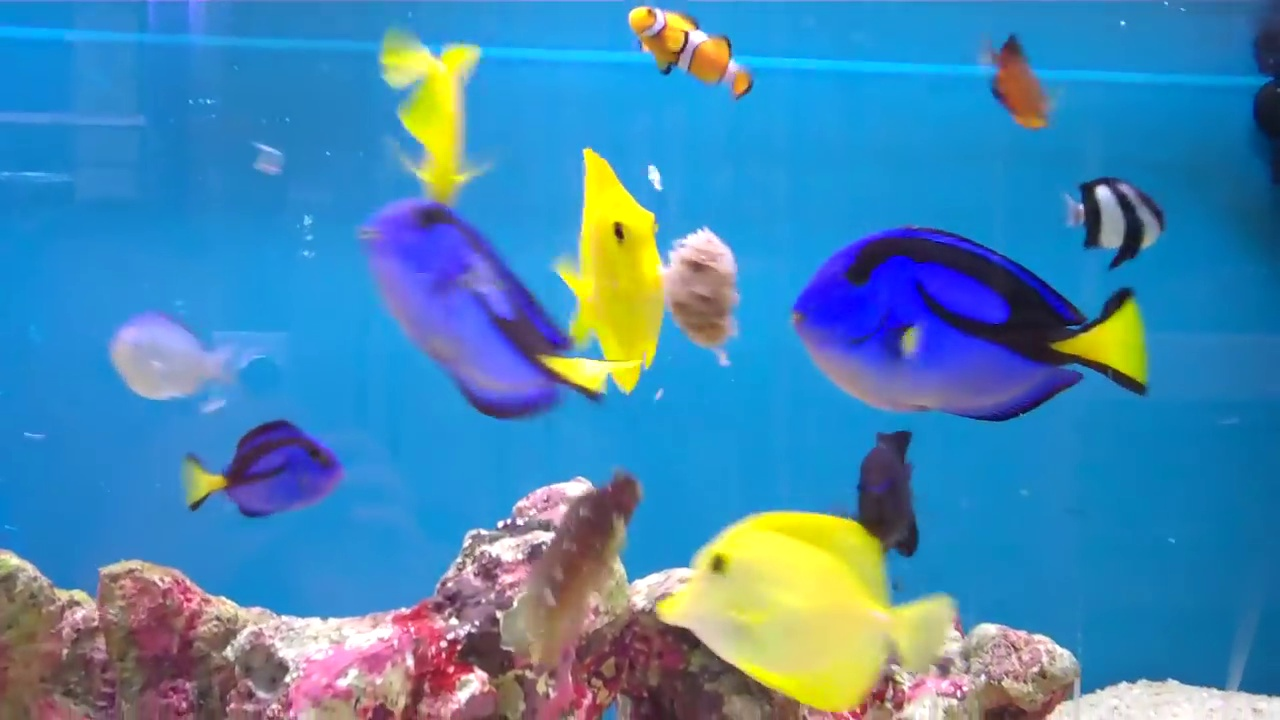blue tang surgeonfish: (770, 215, 1150, 437), (350, 191, 612, 439), (182, 413, 347, 524)
damselfish: (97, 300, 236, 418)
saddle butterfly fish: (654, 498, 954, 704), (536, 120, 683, 392)
